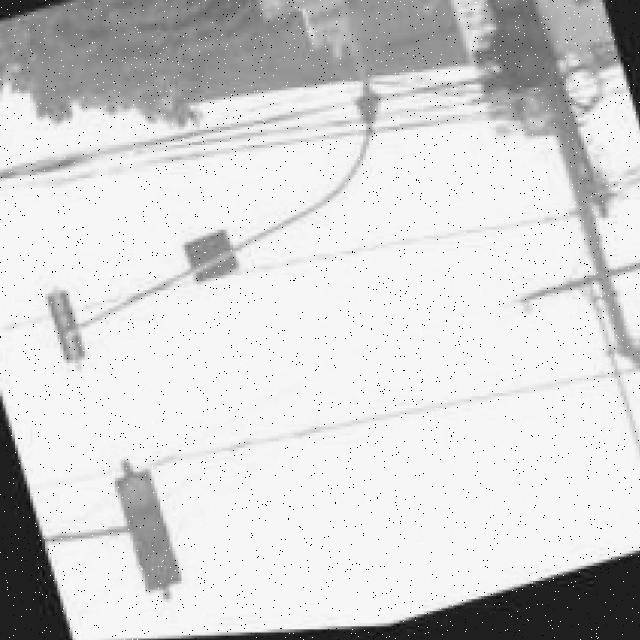Lampu Hijau: (101, 472, 178, 600), (476, 0, 552, 103)
